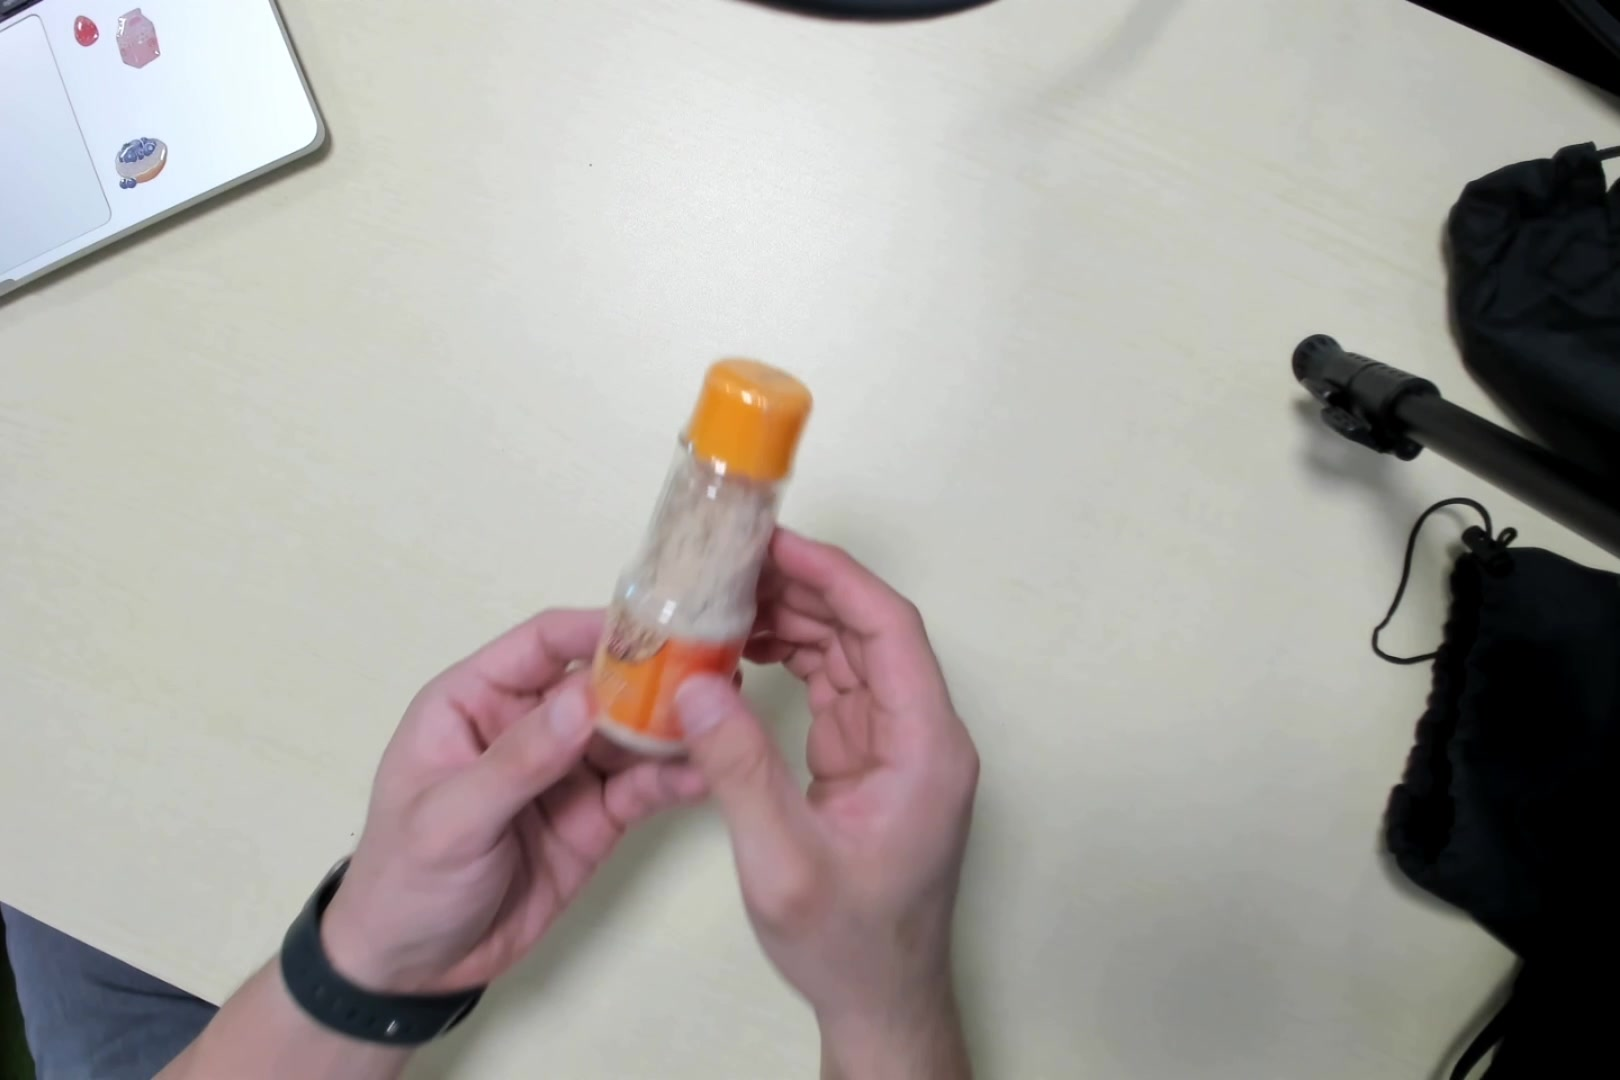HeabsSpicesPepper_0-99g_NonHalal_NonHealthy: (585, 360, 811, 761)
